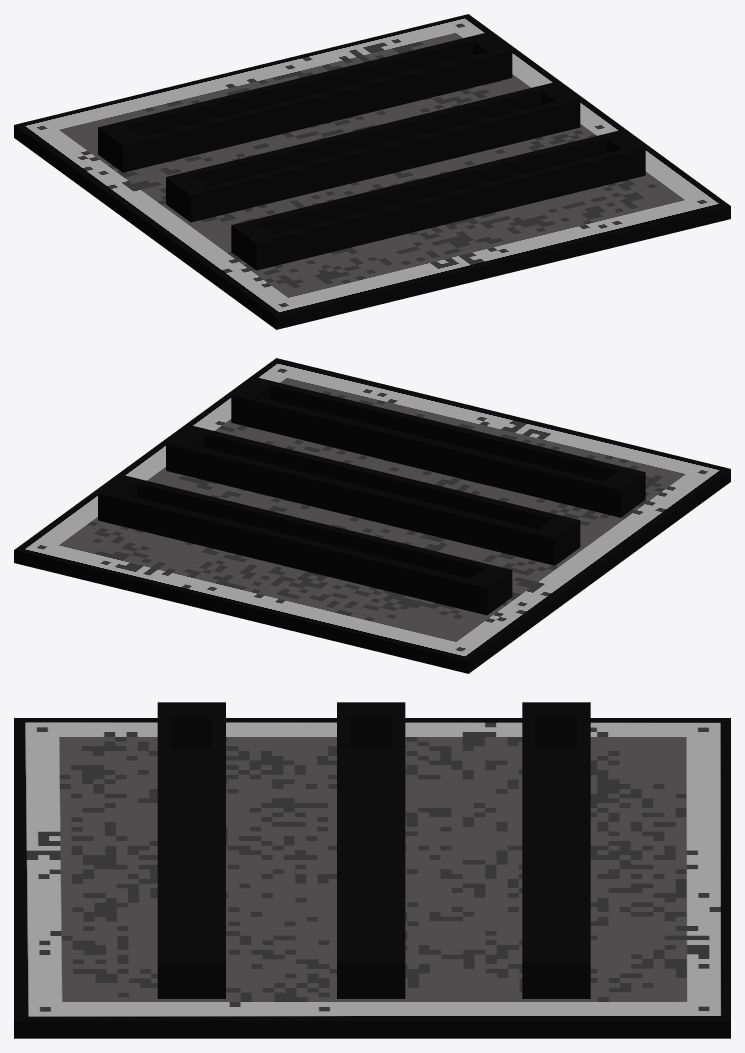
File: Buzzsaw_trap.fbx
3 views of the same model, one above another, from view 1: azimuth 30°, elevation 25°; view 2: azimuth 150°, elevation 25°; view 3: azimuth 270°, elevation 25° (orthographic). The views are drawn at different scales.
Parts seen in each view (by area): view 1: Cube, Cube.003, Cube.001, Cube.002; view 2: Cube, Cube.003, Cube.002, Cube.001; view 3: Cube, Cube.001, Cube.002, Cube.003.
Part boxes in pixels (x1,y1,x2,y2): Cube: (14,14,730,329); Cube.003: (166,82,580,222); Cube.001: (98,32,512,172); Cube.002: (231,130,645,270); Cube: (14,358,730,673); Cube.003: (166,425,580,565); Cube.002: (231,377,645,517); Cube.001: (98,475,512,615); Cube: (14,718,730,1038); Cube.001: (522,702,590,998); Cube.002: (157,702,225,998); Cube.003: (337,702,405,998).
Size of the model in its own units: 407 by 34.29 by 407.
4 materials, 1 textured.
